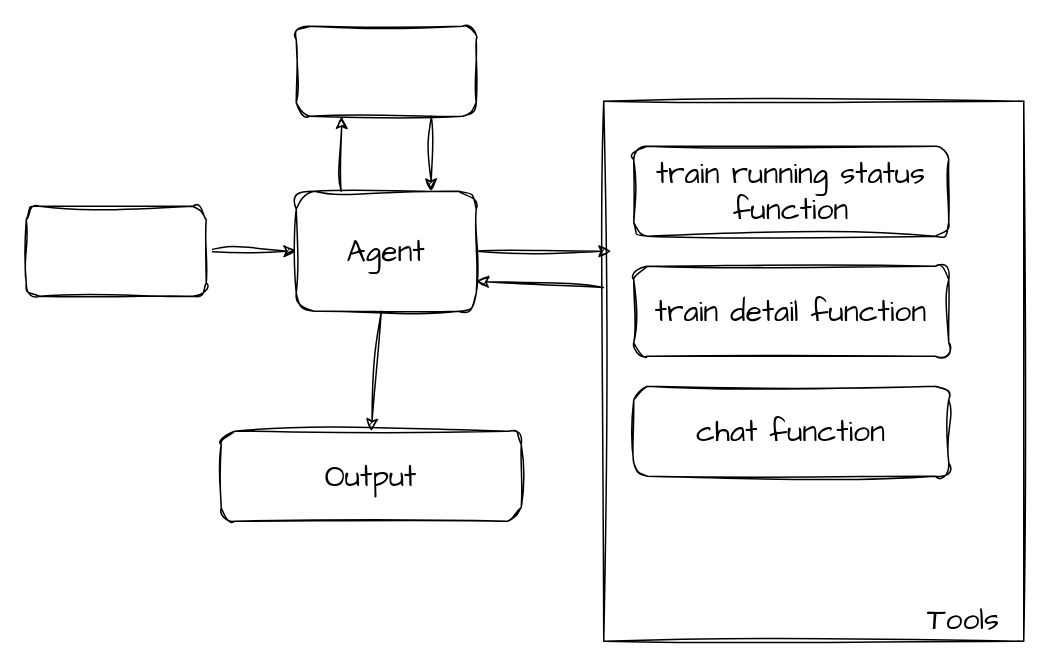
This 1050x668 diagram has some shape labels left out. Here are the shapes that lost their labels. From the top down, the centre of each, then its label:
point 385,70: memory
point 115,250: User Query
